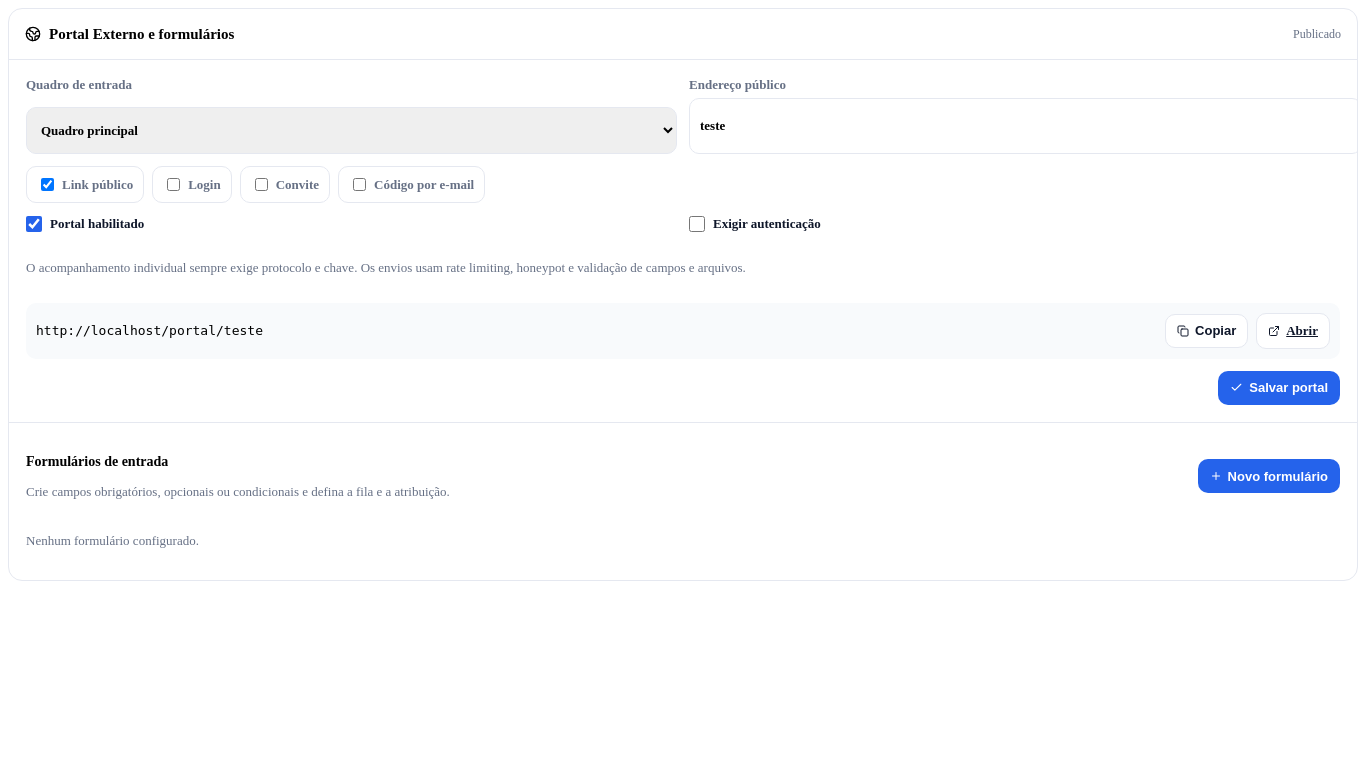
Scenario: ExternalPortalSettings › abre somente o endereço persistido e avisa quando há alteração não salva
The width and height of the screenshot is (1366, 768).
Expected: the text "Publicado" is shown, [1293,26,1341,42]
Replace the text in the field labelled "Endereço público" with "novo-endereco". click: (1026, 126)
box: [689,98,1362,154]
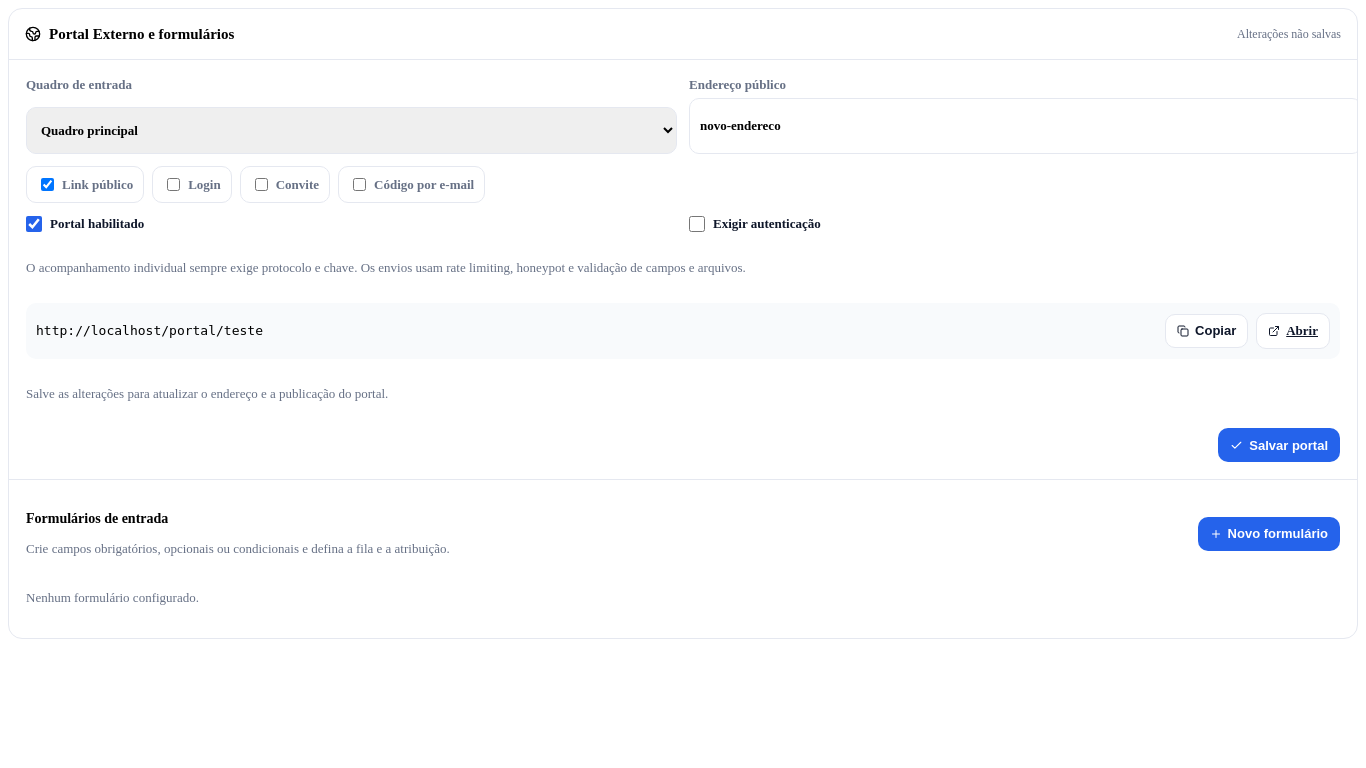
Expected: the text "Alterações não salvas" is shown, [1237,26,1341,42]
Expected: the message shows "Salve as alterações", [26,386,388,401]
